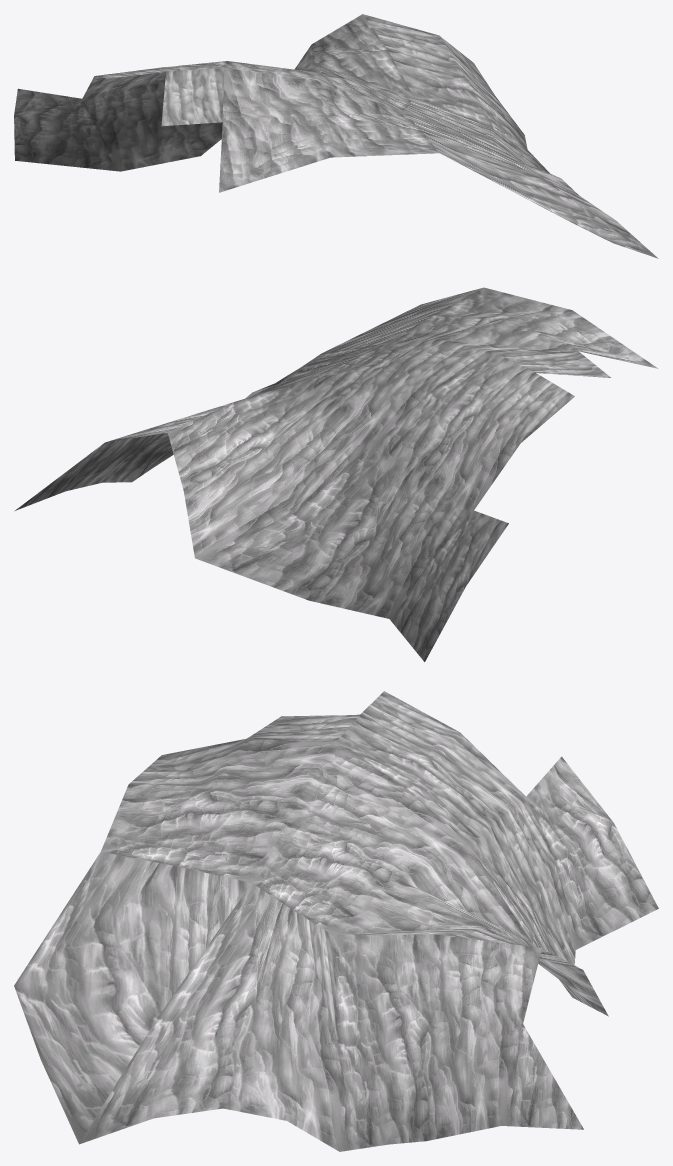
File: SWORDLIGHT20_PS-AREA03_53.fbx
The picture shows the model from 3 angles, top to bottom: view 1: azimuth 30°, elevation 25°; view 2: azimuth 150°, elevation 25°; view 3: azimuth 270°, elevation 25°; orthographic projection. The views are drawn at different scales.
Visible parts, largest first — view 1: SWORDLIGHT20_PS-AREA03_53; view 2: SWORDLIGHT20_PS-AREA03_53; view 3: SWORDLIGHT20_PS-AREA03_53.
Part boxes in pixels (left/top/right/bottom): SWORDLIGHT20_PS-AREA03_53: left=14, top=14, right=658, bottom=258; SWORDLIGHT20_PS-AREA03_53: left=15, top=287, right=658, bottom=661; SWORDLIGHT20_PS-AREA03_53: left=14, top=691, right=658, bottom=1151.
Size of the model in its own units: 201360 by 79360 by 208361.
1 material, 1 textured.
